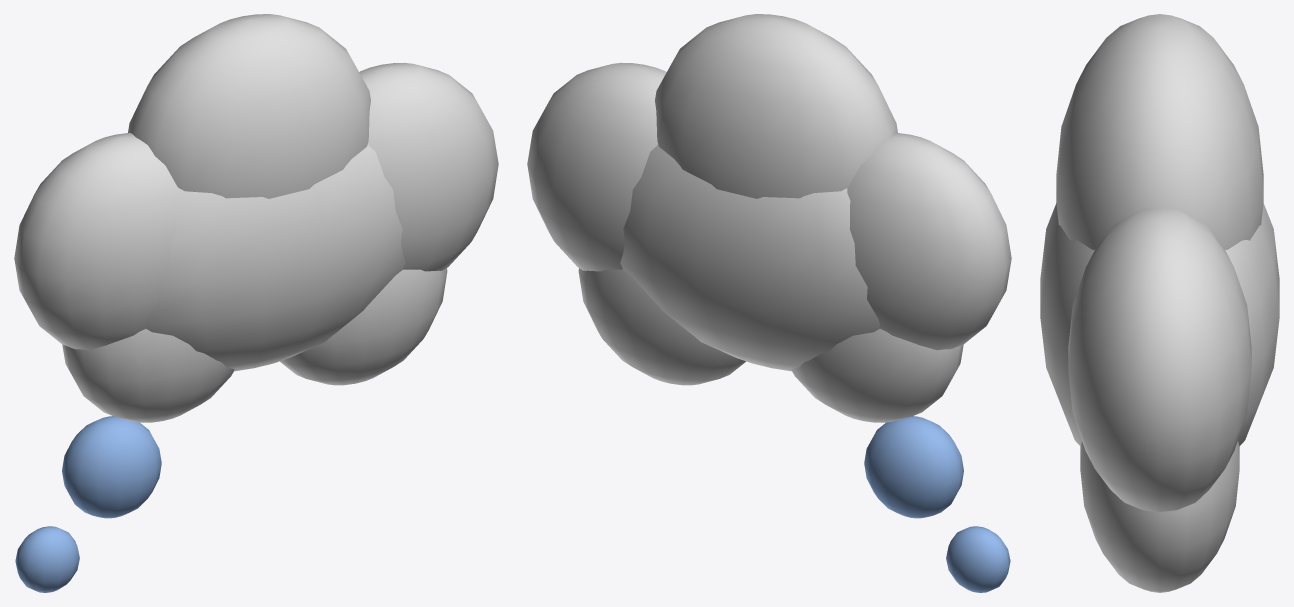
File: thought_bubble.glb
The picture shows the model from 3 angles, left to right: view 1: azimuth 30°, elevation 25°; view 2: azimuth 150°, elevation 25°; view 3: azimuth 270°, elevation 25°; orthographic projection. The views are drawn at different scales.
Visible parts, largest first — view 1: thought_bubble; view 2: thought_bubble; view 3: thought_bubble.
Boxes of the visible parts, x1,y1,x2,y2 form: thought_bubble: (14, 14, 498, 592); thought_bubble: (527, 14, 1011, 592); thought_bubble: (1040, 14, 1279, 592).
Bounding box in the file's own units: 0.9539 × 1 × 0.3268.
